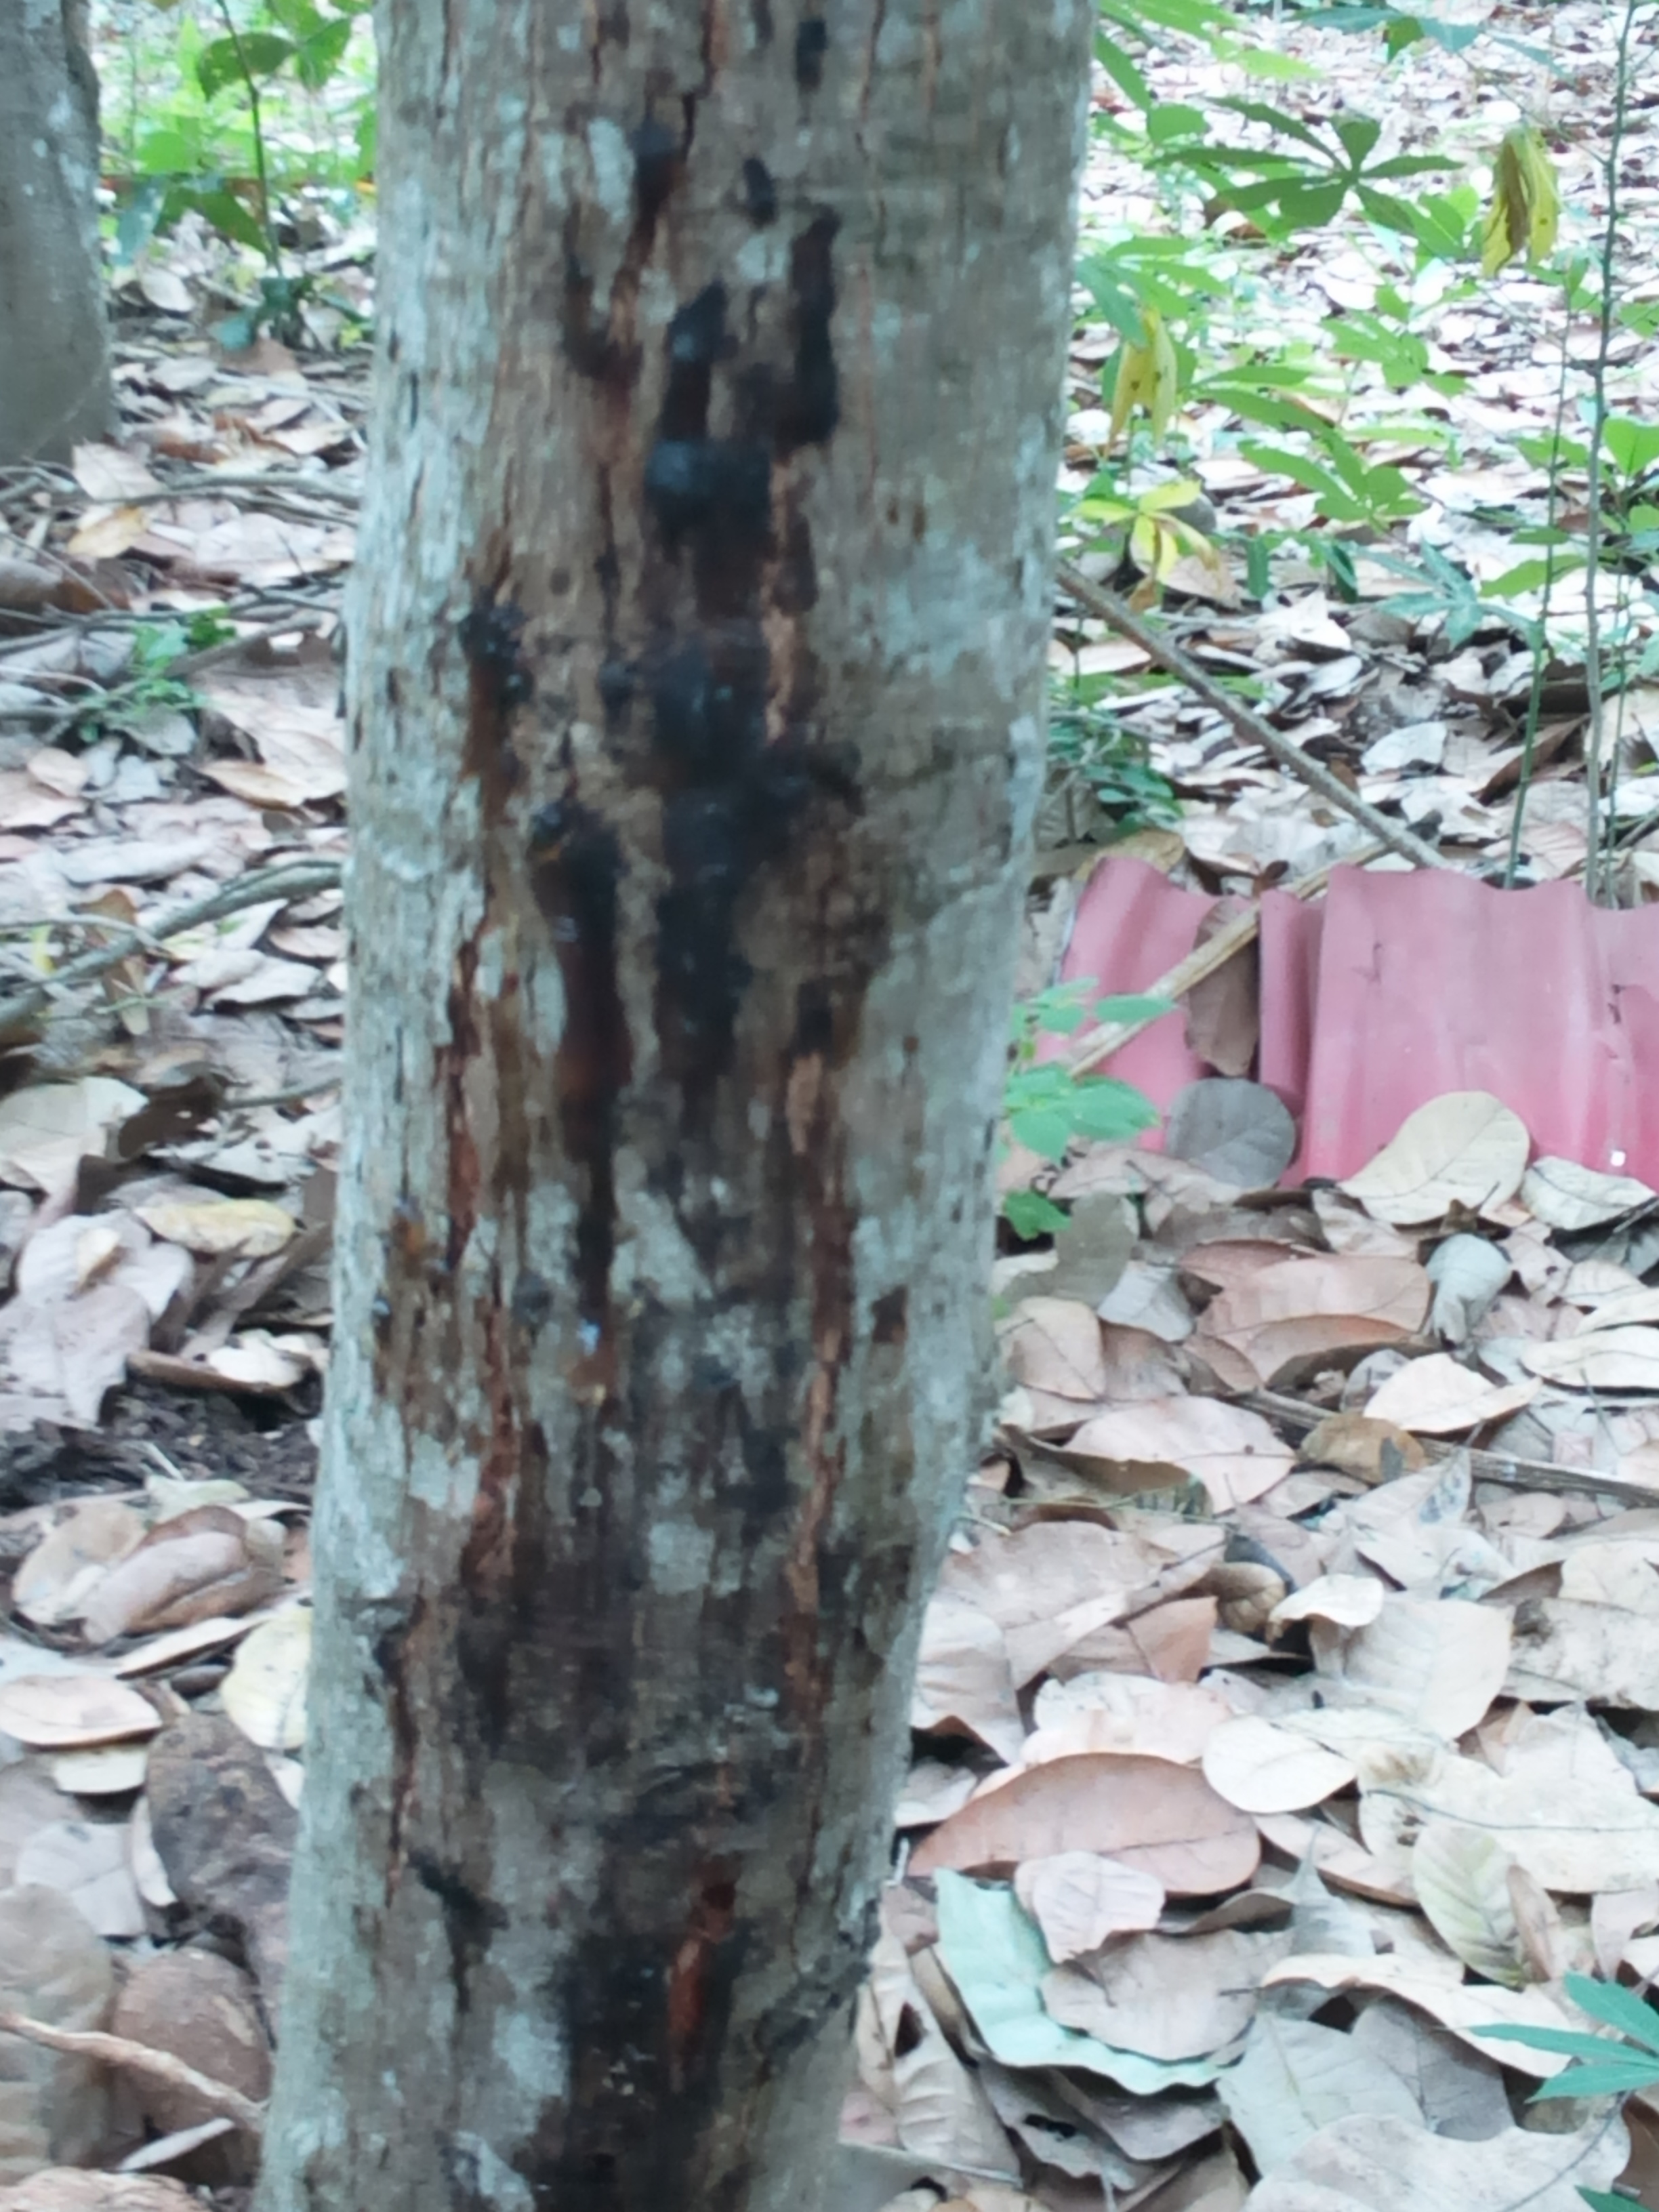Mecocorynus longiceps: (460, 228, 877, 1211)
